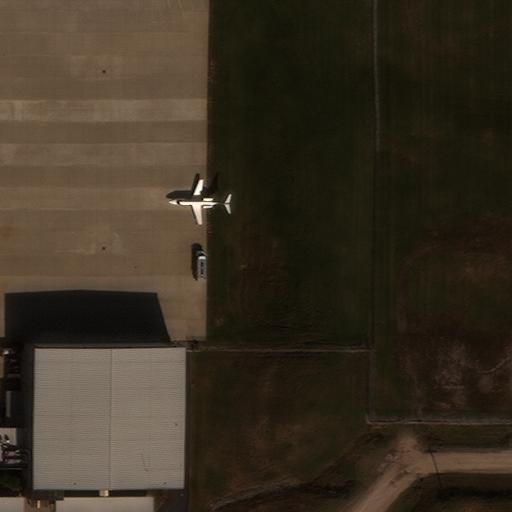Medium Civil Transport: (169, 179, 230, 223)
